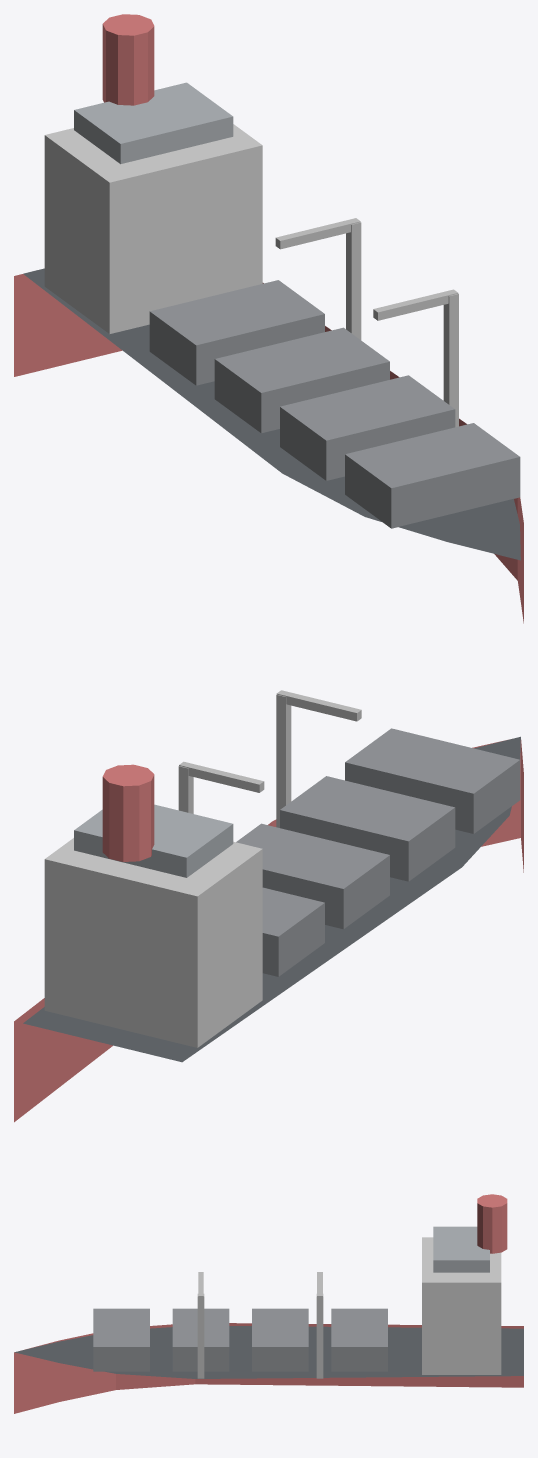
The model's file is bulk_leaking.glb.
3 views of the same model, one above another, from view 1: azimuth 30°, elevation 25°; view 2: azimuth 150°, elevation 25°; view 3: azimuth 270°, elevation 25° (orthographic). The views are drawn at different scales.
Bounding box in the file's own units: 86.8 × 145 × 315.
